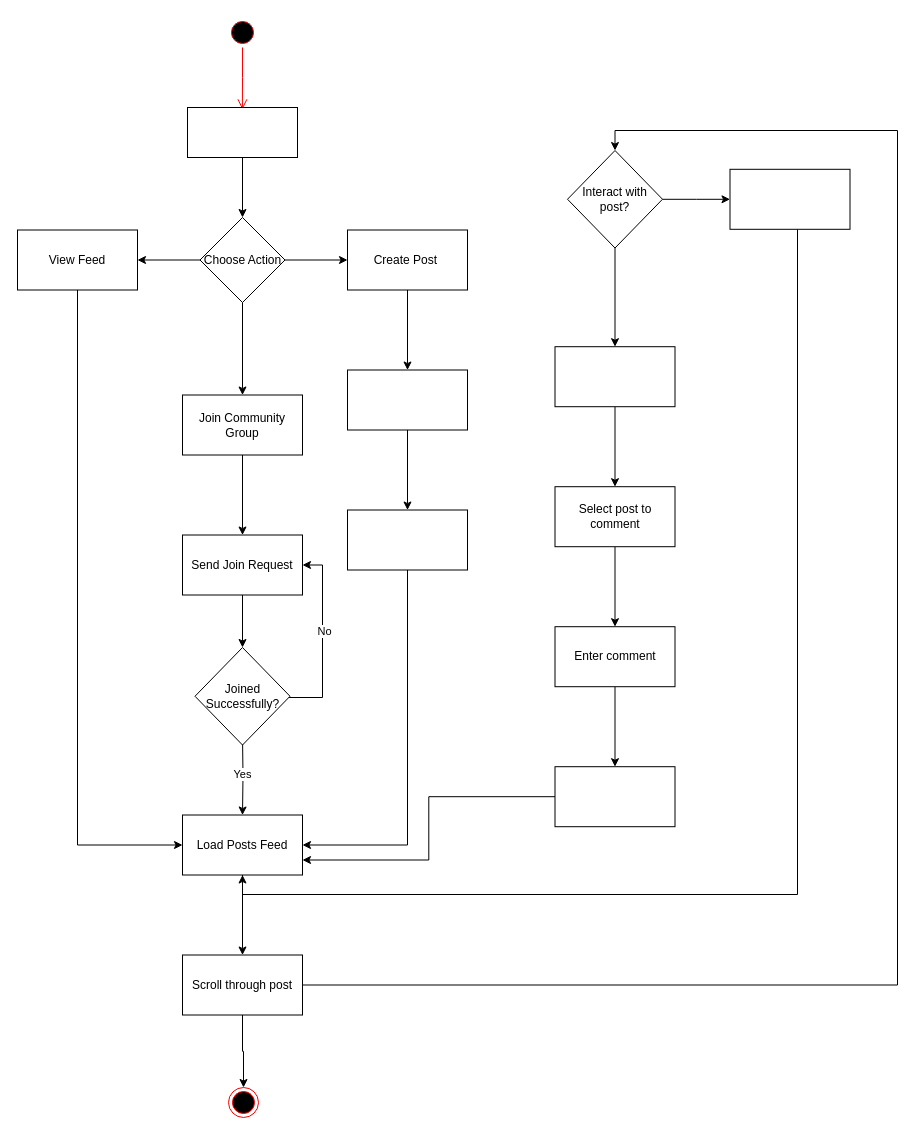
Some shapes in this 923 by 1135 pixel diagram are drawn without their labels. Each missing label, with the box of its shape:
Add Like: (729, 168, 850, 229)
Add Text or Image: (346, 369, 468, 430)
Open Community Module: (186, 106, 298, 158)
Publish Post: (346, 509, 468, 570)
Save Comment: (554, 766, 675, 827)
Write comment: (554, 346, 675, 407)
